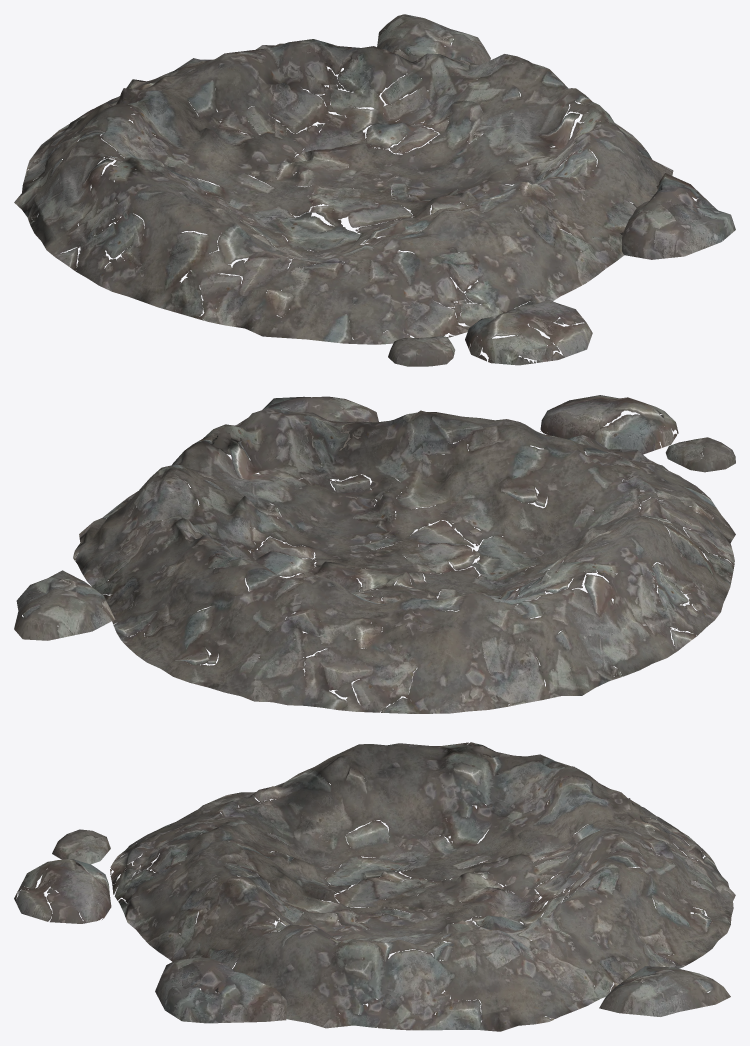
The picture shows the model from 3 angles, top to bottom: view 1: azimuth 30°, elevation 25°; view 2: azimuth 150°, elevation 25°; view 3: azimuth 270°, elevation 25°; orthographic projection. The views are drawn at different scales.
Parts seen in each view (by area): view 1: SM_Dig_Spot_Uncovered_LOD0; view 2: SM_Dig_Spot_Uncovered_LOD0; view 3: SM_Dig_Spot_Uncovered_LOD0.
Part boxes in pixels (x1,y1,x2,y2): SM_Dig_Spot_Uncovered_LOD0: [14, 14, 735, 366]; SM_Dig_Spot_Uncovered_LOD0: [14, 395, 735, 713]; SM_Dig_Spot_Uncovered_LOD0: [14, 742, 735, 1031].
Size of the model in its own units: 2.38 by 0.2984 by 2.86.
Materials: 1 (1 with a texture image).
